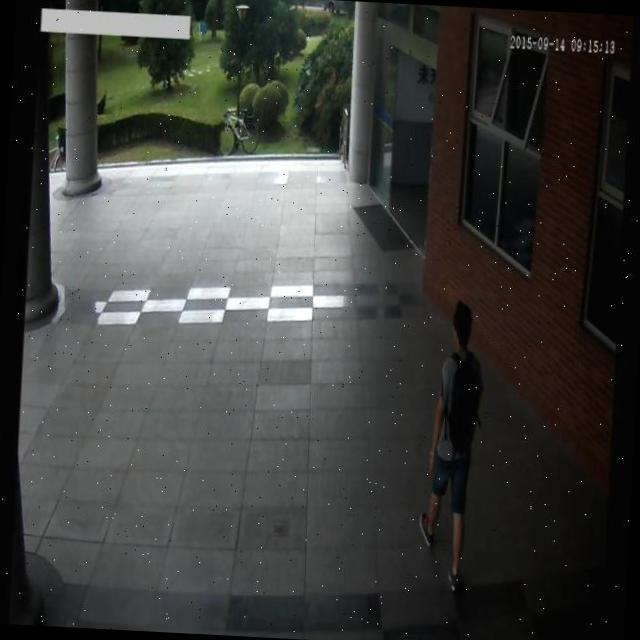person: (413, 291, 486, 600)
